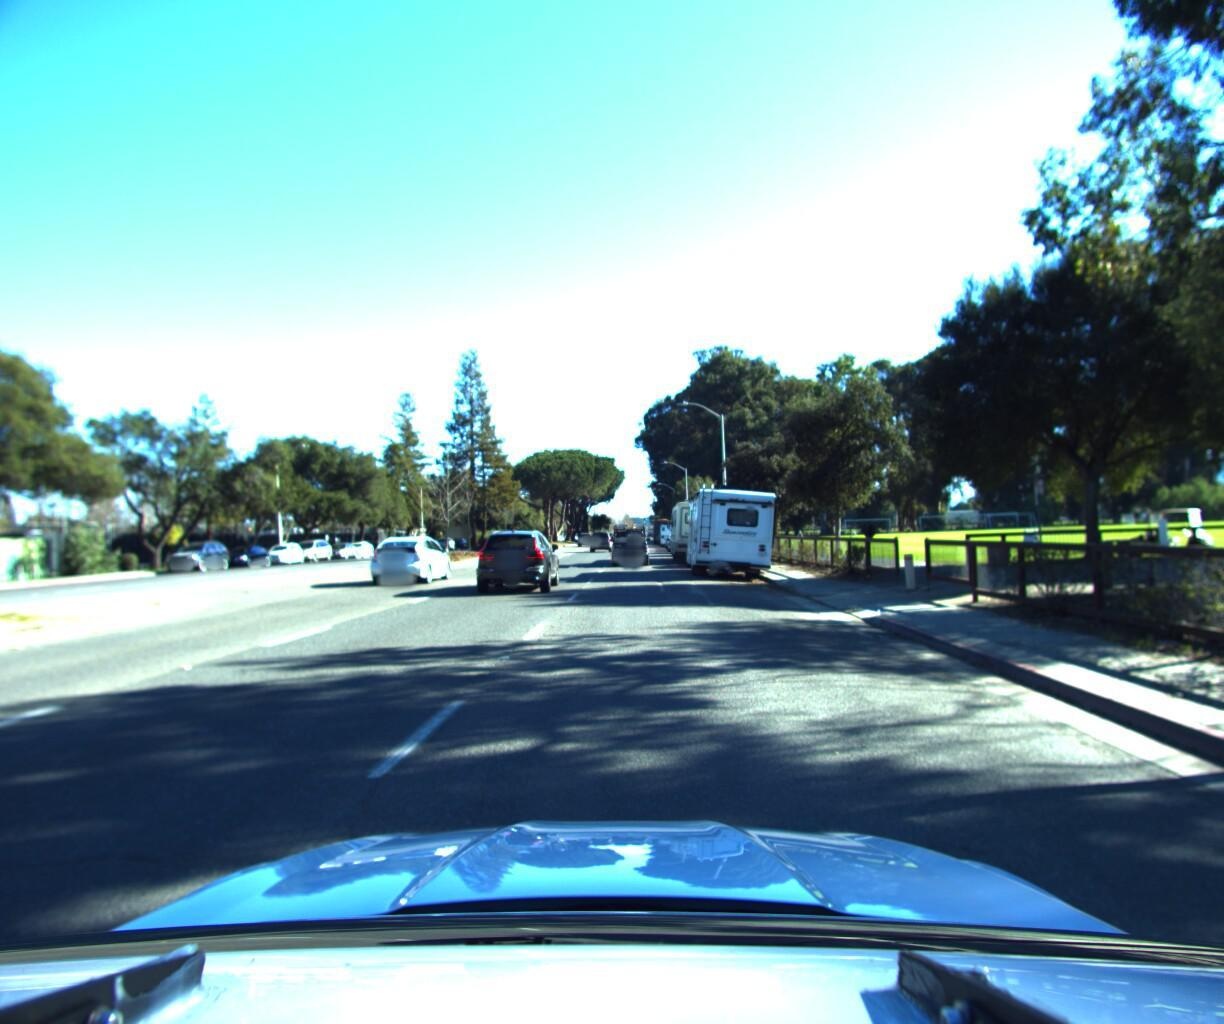car: (474, 523, 561, 592), (359, 529, 458, 587), (162, 538, 235, 571), (606, 513, 655, 562), (217, 541, 277, 568), (289, 536, 335, 562), (262, 540, 307, 565), (322, 540, 361, 560), (341, 538, 376, 558), (588, 525, 615, 549)
other_vehicle: (685, 478, 785, 576), (1090, 495, 1224, 554), (666, 492, 733, 560)
